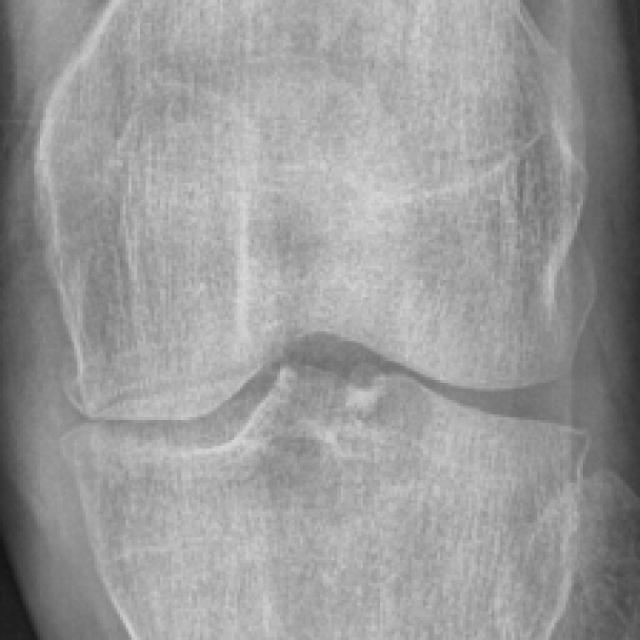femur: (33, 1, 597, 421)
tibia: (56, 363, 596, 640)
